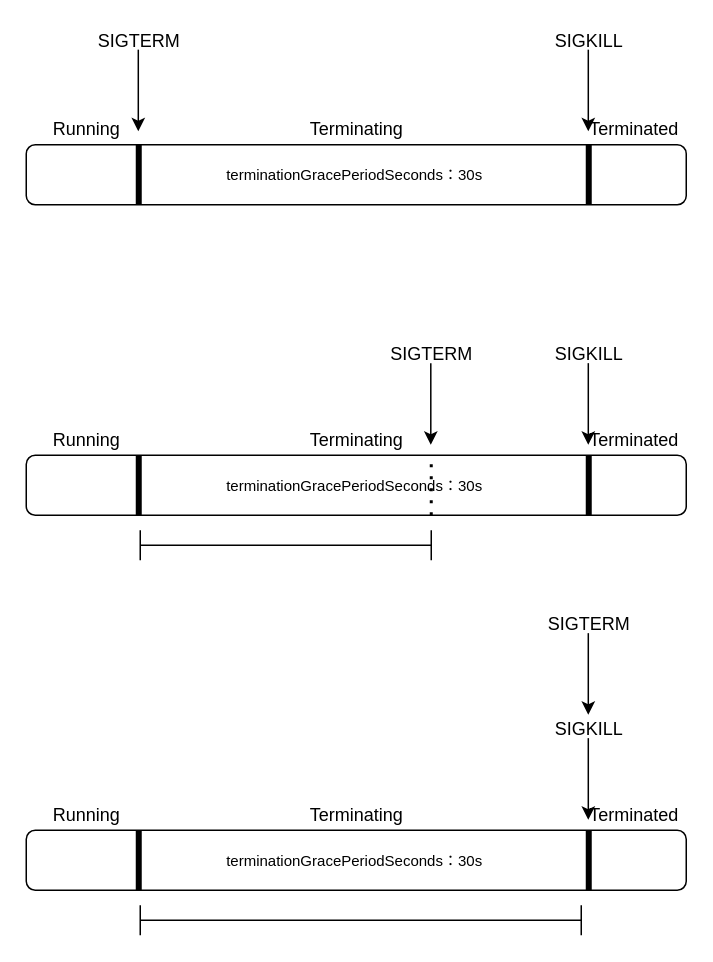
This 713x962 diagram has some shape labels left out. The shapes that lost their labels are listed below. From the top down, each one's box as (x1, y1, x2, y2) in pixels, then its label:
(139, 529, 431, 560): PreStop: 20s
(139, 904, 581, 935): PreStop: 60s
